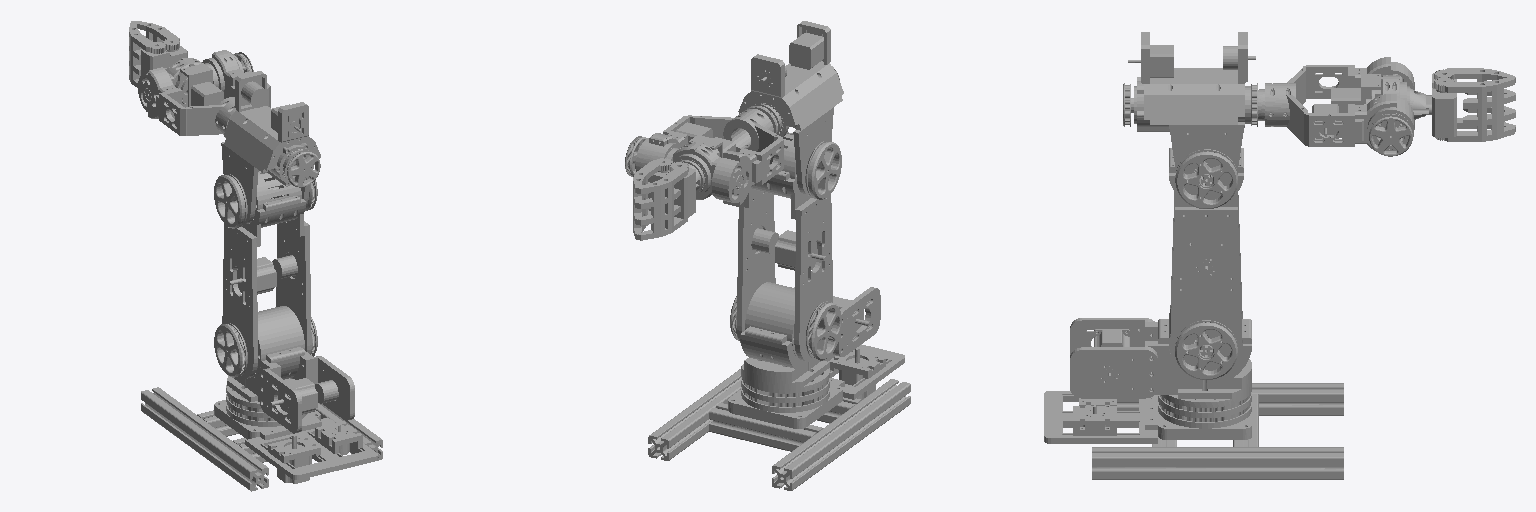
The robot description file, URDF, robot "robot_arm":
<?xml version="1.0" ?>
<!-- =================================================================================== -->
<!-- |    This document was autogenerated by xacro from [local-path]/maven_ws/src/robot_arm_description/urdf/urdf_assembly.xacro | -->
<!-- |    EDITING THIS FILE BY HAND IS NOT RECOMMENDED                                 | -->
<!-- =================================================================================== -->
<robot name="robot_arm">
    <material name="silver">
        <color rgba="0.700 0.700 0.700 1.000" />
    </material>
    <transmission name="joint_1_tran">
        <type>transmission_interface/SimpleTransmission</type>
        <joint name="joint_1">
            <hardwareInterface>hardware_interface/PositionJointInterface</hardwareInterface>
        </joint>
        <actuator name="joint_1_actr">
            <hardwareInterface>hardware_interface/PositionJointInterface</hardwareInterface>
            <mechanicalReduction>1</mechanicalReduction>
        </actuator>
    </transmission>
    <transmission name="joint_2_tran">
        <type>transmission_interface/SimpleTransmission</type>
        <joint name="joint_2">
            <hardwareInterface>hardware_interface/PositionJointInterface</hardwareInterface>
        </joint>
        <actuator name="joint_2_actr">
            <hardwareInterface>hardware_interface/PositionJointInterface</hardwareInterface>
            <mechanicalReduction>1</mechanicalReduction>
        </actuator>
    </transmission>
    <transmission name="joint_3_tran">
        <type>transmission_interface/SimpleTransmission</type>
        <joint name="joint_3">
            <hardwareInterface>hardware_interface/PositionJointInterface</hardwareInterface>
        </joint>
        <actuator name="joint_3_actr">
            <hardwareInterface>hardware_interface/PositionJointInterface</hardwareInterface>
            <mechanicalReduction>1</mechanicalReduction>
        </actuator>
    </transmission>
    <transmission name="joint_4_tran">
        <type>transmission_interface/SimpleTransmission</type>
        <joint name="joint_4">
            <hardwareInterface>hardware_interface/PositionJointInterface</hardwareInterface>
        </joint>
        <actuator name="joint_4_actr">
            <hardwareInterface>hardware_interface/PositionJointInterface</hardwareInterface>
            <mechanicalReduction>1</mechanicalReduction>
        </actuator>
    </transmission>
    <transmission name="joint_5_tran">
        <type>transmission_interface/SimpleTransmission</type>
        <joint name="joint_5">
            <hardwareInterface>hardware_interface/PositionJointInterface</hardwareInterface>
        </joint>
        <actuator name="joint_5_actr">
            <hardwareInterface>hardware_interface/PositionJointInterface</hardwareInterface>
            <mechanicalReduction>1</mechanicalReduction>
        </actuator>
    </transmission>
    <transmission name="joint_6_tran">
        <type>transmission_interface/SimpleTransmission</type>
        <joint name="joint_6">
            <hardwareInterface>hardware_interface/PositionJointInterface</hardwareInterface>
        </joint>
        <actuator name="joint_6_actr">
            <hardwareInterface>hardware_interface/PositionJointInterface</hardwareInterface>
            <mechanicalReduction>1</mechanicalReduction>
        </actuator>
    </transmission>
    <transmission name="joint_7_tran">
        <type>transmission_interface/SimpleTransmission</type>
        <joint name="joint_7">
            <hardwareInterface>hardware_interface/PositionJointInterface</hardwareInterface>
        </joint>
        <actuator name="joint_7_actr">
            <hardwareInterface>hardware_interface/PositionJointInterface</hardwareInterface>
            <mechanicalReduction>1</mechanicalReduction>
        </actuator>
    </transmission>
    <transmission name="joint_8_tran">
        <type>transmission_interface/SimpleTransmission</type>
        <joint name="joint_8">
            <hardwareInterface>hardware_interface/PositionJointInterface</hardwareInterface>
        </joint>
        <actuator name="joint_8_actr">
            <hardwareInterface>hardware_interface/PositionJointInterface</hardwareInterface>
            <mechanicalReduction>1</mechanicalReduction>
        </actuator>
    </transmission>
    <gazebo>
        <plugin filename="libgazebo_ros_control.so" name="control" />
    </gazebo>
    <gazebo reference="base_link">
        <material>Gazebo/Silver</material>
        <mu1>0.2</mu1>
        <mu2>0.2</mu2>
        <selfCollide>true</selfCollide>
        <gravity>true</gravity>
    </gazebo>
    <gazebo reference="link_1_1">
        <material>Gazebo/Silver</material>
        <mu1>0.2</mu1>
        <mu2>0.2</mu2>
        <selfCollide>true</selfCollide>
    </gazebo>
    <gazebo reference="link_2_1">
        <material>Gazebo/Silver</material>
        <mu1>0.2</mu1>
        <mu2>0.2</mu2>
        <selfCollide>true</selfCollide>
    </gazebo>
    <gazebo reference="link_3_1">
        <material>Gazebo/Silver</material>
        <mu1>0.2</mu1>
        <mu2>0.2</mu2>
        <selfCollide>true</selfCollide>
    </gazebo>
    <gazebo reference="link_4_1">
        <material>Gazebo/Silver</material>
        <mu1>0.2</mu1>
        <mu2>0.2</mu2>
        <selfCollide>true</selfCollide>
    </gazebo>
    <gazebo reference="link_5_1">
        <material>Gazebo/Silver</material>
        <mu1>0.2</mu1>
        <mu2>0.2</mu2>
        <selfCollide>true</selfCollide>
    </gazebo>
    <gazebo reference="link_6_1">
        <material>Gazebo/Silver</material>
        <mu1>0.2</mu1>
        <mu2>0.2</mu2>
        <selfCollide>true</selfCollide>
    </gazebo>
    <gazebo reference="link_7_1">
        <material>Gazebo/Silver</material>
        <mu1>0.2</mu1>
        <mu2>0.2</mu2>
        <selfCollide>true</selfCollide>
    </gazebo>
    <gazebo reference="link_8_1">
        <material>Gazebo/Silver</material>
        <mu1>0.2</mu1>
        <mu2>0.2</mu2>
        <selfCollide>true</selfCollide>
    </gazebo>

    <link name="world" />
    <link name="base_link">
        <inertial>
            <origin rpy="0 0 0" xyz="0 0 0" />
            <mass value="2.200366644976027" />
            <inertia ixx="0.02691" ixy="-0.000363" ixz="-0.000114" iyy="0.015633" iyz="0.001133" izz="0.040737" />
        </inertial>
        <visual>
            <origin rpy="0 0 0" xyz="0 0 0" />
            <geometry>
                <mesh filename="package://robot_arm_description/meshes/base_link.stl" scale="0.001 0.001 0.001" />
            </geometry>
            <material name="silver" />
        </visual>
        <collision>
            <origin rpy="0 0 0" xyz="0 0 0" />
            <geometry>
                <mesh filename="package://robot_arm_description/meshes/base_link.stl" scale="0.001 0.001 0.001" />
            </geometry>
        </collision>
    </link>
    <link name="link_1_1">
        <inertial>
            <origin rpy="0 0 0" xyz="0 0 0.024001498636141927" />
            <mass value="2.030739431813925" />
            <inertia ixx="0.014477" ixy="-0.000145" ixz="1.6e-05" iyy="0.006803" iyz="0.000726" izz="0.0131" />
        </inertial>
        <visual>
            <origin rpy="0 0 0" xyz="0 0 -0.117341" />
            <geometry>
                <mesh filename="package://robot_arm_description/meshes/link_1_1.stl" scale="0.001 0.001 0.001" />
            </geometry>
            <material name="silver" />
        </visual>
        <collision>
            <origin rpy="0 0 0" xyz="0 0 -0.117341" />
            <geometry>
                <mesh filename="package://robot_arm_description/meshes/link_1_1.stl" scale="0.001 0.001 0.001" />
            </geometry>
        </collision>
    </link>
    <link name="link_2_1">
        <inertial>
            <origin rpy="0 0 0" xyz="0 0 0.13687546860146899" />
            <mass value="1.6626610036452254" />
            <inertia ixx="0.024251" ixy="0.0" ixz="-2.6e-05" iyy="0.026584" iyz="7e-06" izz="0.005086" />
        </inertial>
        <visual>
            <origin rpy="0 0 0" xyz="0 0.002 -0.199341" />
            <geometry>
                <mesh filename="package://robot_arm_description/meshes/link_2_1.stl" scale="0.001 0.001 0.001" />
            </geometry>
            <material name="silver" />
        </visual>
        <collision>
            <origin rpy="0 0 0" xyz="0 0 -0.199341" />
            <geometry>
                <mesh filename="package://robot_arm_description/meshes/link_2_1.stl" scale="0.001 0.001 0.001" />
            </geometry>
        </collision>
    </link>
    <link name="link_3_1">
        <inertial>
            <origin rpy="0 0 0" xyz="0 -0.016283006892585307 0.07497937866412202" />
            <mass value="9.121346283290384" />
            <inertia ixx="0.063998" ixy="2.5e-05" ixz="-0.000107" iyy="0.062586" iyz="0.007821" izz="0.038355" />
        </inertial>
        <visual>
            <origin rpy="0 0 0" xyz="0 0.002793 -0.498507" />
            <geometry>
                <mesh filename="package://robot_arm_description/meshes/link_3_1.stl" scale="0.001 0.001 0.001" />
            </geometry>
            <material name="silver" />
        </visual>
        <collision>
            <origin rpy="0 0 0" xyz="0 0.002793 -0.498507" />
            <geometry>
                <mesh filename="package://robot_arm_description/meshes/link_3_1.stl" scale="0.001 0.001 0.001" />
            </geometry>
        </collision>
    </link>
    <link name="link_4_1">
        <inertial>
            <origin rpy="0 0 0" xyz="0.005513953778460314 0.2625680653929481 4.057984306360396e-06" />
            <mass value="7.5787166188185005" />
            <inertia ixx="0.126085" ixy="-0.000913" ixz="-2e-06" iyy="0.027107" iyz="-1e-06" izz="0.147683" />
        </inertial>
        <visual>
            <origin rpy="0 0 0" xyz="0.002859 0.112793 -0.596394" />
            <geometry>
                <mesh filename="package://robot_arm_description/meshes/link_4_1.stl" scale="0.001 0.001 0.001" />
            </geometry>
            <material name="silver" />
        </visual>
        <collision>
            <origin rpy="0 0 0" xyz="0.002859 0.112793 -0.596394" />
            <geometry>
                <mesh filename="package://robot_arm_description/meshes/link_4_1.stl" scale="0.001 0.001 0.001" />
            </geometry>
        </collision>
    </link>
    <link name="link_5_1">
        <inertial>
            <origin rpy="0 0 0" xyz="-0.07848672877351807 -0.01878037329851351 1.0025048180262175e-05" />
            <mass value="3.0872435381050845" />
            <inertia ixx="0.004619" ixy="-0.001102" ixz="0.0" iyy="0.008205" iyz="2e-06" izz="0.009933" />
        </inertial>
        <visual>
            <origin rpy="0 0 0" xyz="-0.094641 -0.289485 -0.596394" />
            <geometry>
                <mesh filename="package://robot_arm_description/meshes/link_5_1.stl" scale="0.001 0.001 0.001" />
            </geometry>
            <material name="silver" />
        </visual>
        <collision>
            <origin rpy="0 0 0" xyz="-0.094641 -0.289485 -0.596394" />
            <geometry>
                <mesh filename="package://robot_arm_description/meshes/link_5_1.stl" scale="0.001 0.001 0.001" />
            </geometry>
        </collision>
    </link>
    <link name="link_6_1">
        <inertial>
            <origin rpy="0 0 0" xyz="-0.0006916944165798809 0.03632808398557291 -0.0013926003723436775" />
            <mass value="2.637875841155386" />
            <inertia ixx="0.004764" ixy="4.3e-05" ixz="6.9e-05" iyy="0.001978" iyz="8.7e-05" izz="0.004912" />
        </inertial>
        <visual>
            <origin rpy="0 0 0" xyz="0.002859 -0.314485 -0.596394" />
            <geometry>
                <mesh filename="package://robot_arm_description/meshes/link_6_1.stl" scale="0.001 0.001 0.001" />
            </geometry>
            <material name="silver" />
        </visual>
        <collision>
            <origin rpy="0 0 0" xyz="0.002859 -0.314485 -0.596394" />
            <geometry>
                <mesh filename="package://robot_arm_description/meshes/link_6_1.stl" scale="0.001 0.001 0.001" />
            </geometry>
        </collision>
    </link>
    <link name="link_7_1">
        <inertial>
            <origin rpy="0 0 0" xyz="0.005289159325895416 0.05604353410292273 -0.03427022222823228" />
            <mass value="0.8308399781572773" />
            <inertia ixx="0.001677" ixy="5e-05" ixz="1e-06" iyy="0.000955" iyz="3e-06" izz="0.000833" />
        </inertial>
        <visual>
            <origin rpy="0 0 0" xyz="-0.01211 -0.374485 -0.630669" />
            <geometry>
                <mesh filename="package://robot_arm_description/meshes/link_7_1.stl" scale="0.001 0.001 0.001" />
            </geometry>
            <material name="silver" />
        </visual>
        <collision>
            <origin rpy="0 0 0" xyz="-0.01211 -0.374485 -0.630669" />
            <geometry>
                <mesh filename="package://robot_arm_description/meshes/link_7_1.stl" scale="0.001 0.001 0.001" />
            </geometry>
        </collision>
    </link>
    <link name="link_8_1">
        <inertial>
            <origin rpy="0 0 0" xyz="-0.0054920854200500475 0.05617084434859132 -0.03817503247390952" />
            <mass value="0.8293395046016687" />
            <inertia ixx="0.001672" ixy="-4.8e-05" ixz="-1e-06" iyy="0.000956" iyz="-0.0" izz="0.000827" />
        </inertial>
        <visual>
            <origin rpy="0 0 0" xyz="0.01809 -0.374485 -0.634569" />
            <geometry>
                <mesh filename="package://robot_arm_description/meshes/link_8_1.stl" scale="0.001 0.001 0.001" />
            </geometry>
            <material name="silver" />
        </visual>
        <collision>
            <origin rpy="0 0 0" xyz="0.01809 -0.374485 -0.634569" />
            <geometry>
                <mesh filename="package://robot_arm_description/meshes/link_8_1.stl" scale="0.001 0.001 0.001" />
            </geometry>
        </collision>
    </link>

    <joint name="world" type="fixed">
        <origin rpy="0 0 0" xyz="0 0 0" />
        <parent link="world" />
        <child link="base_link" />
        <axis xyz="0 0 0" />
    </joint>
    <joint name="joint_1" type="continuous">
        <origin rpy="0 0 0" xyz="0 0 0.117341" />
        <parent link="base_link" />
        <child link="link_1_1" />
        <axis xyz="-0.0 -0.0 1.0" />
    </joint>
    <joint name="joint_2" type="revolute">
        <origin rpy="0 0 0" xyz="0 0.0 0.082" />
        <parent link="link_1_1" />
        <child link="link_2_1" />
        <axis xyz="-1.0 -0.0 -0.0" />
        <limit effort="100" lower="-0.872665" upper="1.570796" velocity="100" />
    </joint>
    <joint name="joint_3" type="revolute">
        <origin rpy="0 0 0" xyz="0.0 0 0.299166" />
        <parent link="link_2_1" />
        <child link="link_3_1" />
        <axis xyz="1.0 0.0 0.0" />
        <limit effort="100" lower="-1.570796" upper="1.570796" velocity="100" />
    </joint>
    <joint name="joint_4" type="continuous">
        <origin rpy="0 0 0" xyz="0 -0.11 0.097887" />
        <parent link="link_3_1" />
        <child link="link_4_1" />
        <axis xyz="-0.0 1.0 -0.0" />
    </joint>
    <joint name="joint_5" type="revolute">
        <origin rpy="0 0 0" xyz="0.0975 0.402278 0.0" />
        <parent link="link_4_1" />
        <child link="link_5_1" />
        <axis xyz="1.0 0.0 0.0" />
        <limit effort="100" lower="-2.443461" upper="2.443461" velocity="100" />
    </joint>
    <joint name="joint_6" type="continuous">
        <origin rpy="0 0 0" xyz="-0.0975 0.025 0.0" />
        <parent link="link_5_1" />
        <child link="link_6_1" />
        <axis xyz="-0.0 1.0 0.0" />
    </joint>
    <joint name="joint_7" type="revolute">
        <origin rpy="0 0 0" xyz="0.014969 0.06 0.034275" />
        <parent link="link_6_1" />
        <child link="link_7_1" />
        <axis xyz="-0.0 -0.0 1.0" />
        <limit effort="100" lower="-1.570796" upper="0.0" velocity="100" />
    </joint>
    <joint name="joint_8" type="revolute">
        <origin rpy="0 0 0" xyz="-0.015231 0.06 0.038175" />
        <parent link="link_6_1" />
        <child link="link_8_1" />
        <axis xyz="-0.0 -0.0 1.0" />
        <limit effort="100" lower="0.0" upper="1.570796" velocity="100" />
    </joint>
</robot>

--- Facts derived from the render (not from the file) ---
Views: 3 orthographic renders of the robot side by side, from view 1: azimuth 30°, elevation 25°; view 2: azimuth 150°, elevation 25°; view 3: azimuth 270°, elevation 25°.
Robot: robot_arm — 10 links, 9 joints (5 revolute, 3 continuous, 1 fixed); root link world; default pose: all joints at 0.
Links seen in each view (by area): view 1: base_link, link_2_1, link_1_1, link_3_1, link_4_1, link_5_1, link_8_1, link_6_1, link_7_1; view 2: base_link, link_2_1, link_1_1, link_3_1, link_4_1, link_8_1, link_5_1, link_6_1, link_7_1; view 3: base_link, link_3_1, link_1_1, link_2_1, link_4_1, link_7_1, link_5_1, link_6_1, link_8_1.
Link boxes in pixels (x1,y1,x2,y2): base_link: (141, 387, 382, 491); link_2_1: (214, 171, 317, 378); link_1_1: (226, 306, 354, 433); link_3_1: (214, 71, 320, 228); link_4_1: (138, 50, 320, 187); link_5_1: (145, 52, 253, 107); link_8_1: (129, 21, 165, 87); link_6_1: (141, 46, 187, 104); link_7_1: (134, 21, 179, 51); base_link: (648, 344, 910, 490); link_2_1: (730, 132, 841, 361); link_1_1: (740, 282, 880, 412); link_3_1: (738, 21, 843, 199); link_4_1: (636, 66, 839, 206); link_8_1: (638, 162, 688, 240); link_5_1: (625, 135, 742, 199); link_6_1: (648, 160, 704, 218); link_7_1: (633, 158, 672, 239); base_link: (1044, 383, 1343, 479); link_3_1: (1128, 32, 1255, 208); link_1_1: (1070, 309, 1251, 428); link_2_1: (1169, 148, 1243, 379); link_4_1: (1123, 57, 1414, 150); link_7_1: (1434, 77, 1515, 141); link_5_1: (1331, 74, 1412, 156); link_6_1: (1366, 73, 1456, 137); link_8_1: (1434, 68, 1515, 131).
Bounding box of the posed robot: 0.28 × 0.7476 × 0.7081 m (x, y, z).
9 mesh visuals loaded from 9 distinct referenced files (9 binary STL).